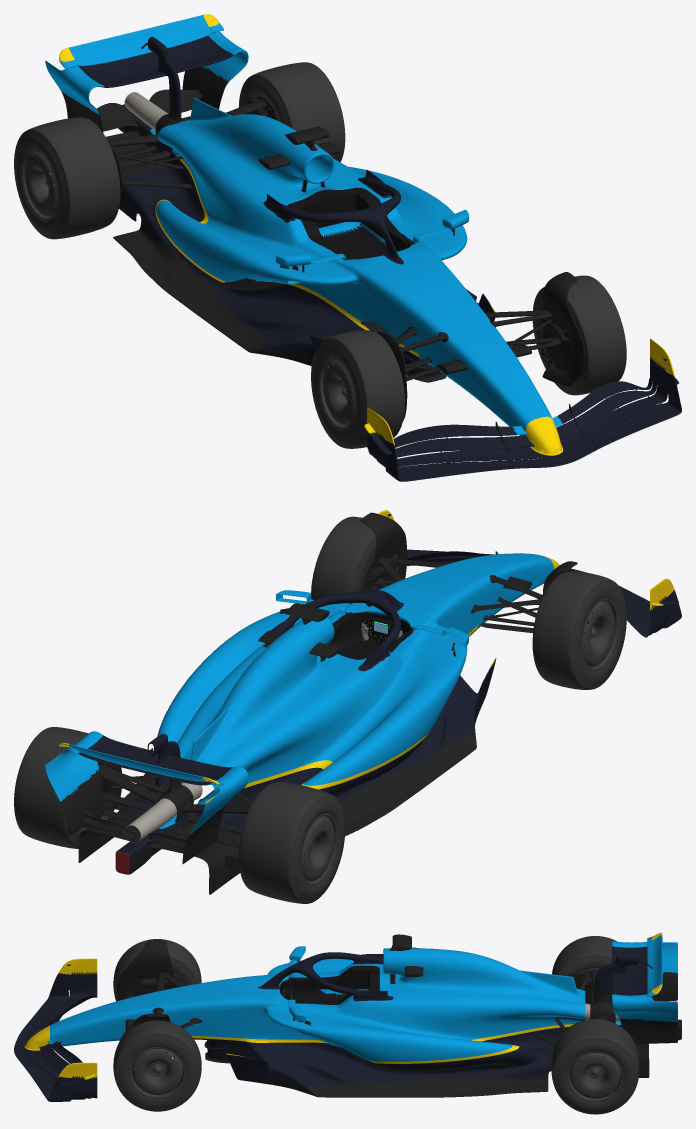
3 renders of one model, top to bottom at view 1: azimuth 30°, elevation 25°; view 2: azimuth 150°, elevation 25°; view 3: azimuth 270°, elevation 25°, orthographic. The views are drawn at different scales.
Visible parts, largest first — view 1: BODY, WHEEL_RR_TYRE, WHEEL_RF_TYRE, WHEEL_LF_TYRE, WHEEL_LR_TYRE, WING_REAR_DRS, SUSP_LF, WHEEL_RF_RIM, WHEEL_RR_RIM, SUSP_RF; view 2: BODY, WHEEL_RR_TYRE, WHEEL_RF_TYRE, WHEEL_LR_TYRE, WHEEL_LF_TYRE, WHEEL_RF_RIM, WHEEL_RR_RIM, SUSP_LF, WING_REAR_DRS; view 3: BODY, WHEEL_LR_TYRE, WHEEL_LF_TYRE, WHEEL_LF_RIM, WHEEL_LR_RIM, SUSP_RF, WHEEL_RR_TYRE, WHEEL_RF_TYRE, WING_REAR_DRS, SUSP_LF.
Boxes of the visible parts, x1=… form: BODY: x1=45, y1=14, x2=681, y2=481; WHEEL_RR_TYRE: x1=14, y1=117, x2=120, y2=239; WHEEL_RF_TYRE: x1=311, y1=330, x2=405, y2=448; WHEEL_LF_TYRE: x1=532, y1=275, x2=626, y2=395; WHEEL_LR_TYRE: x1=238, y1=62, x2=345, y2=162; WING_REAR_DRS: x1=69, y1=15, x2=211, y2=66; SUSP_LF: x1=539, y1=272, x2=584, y2=386; WHEEL_RF_RIM: x1=319, y1=357, x2=356, y2=429; WHEEL_RR_RIM: x1=21, y1=148, x2=58, y2=220; SUSP_RF: x1=360, y1=321, x2=407, y2=420; BODY: x1=45, y1=510, x2=681, y2=894; WHEEL_RR_TYRE: x1=238, y1=782, x2=345, y2=903; WHEEL_RF_TYRE: x1=532, y1=571, x2=626, y2=689; WHEEL_LR_TYRE: x1=14, y1=727, x2=114, y2=848; WHEEL_LF_TYRE: x1=311, y1=516, x2=397, y2=603; WHEEL_RF_RIM: x1=581, y1=598, x2=618, y2=671; WHEEL_RR_RIM: x1=300, y1=813, x2=337, y2=885; SUSP_LF: x1=360, y1=512, x2=407, y2=582; WING_REAR_DRS: x1=68, y1=744, x2=208, y2=781; BODY: x1=14, y1=932, x2=681, y2=1101; WHEEL_LR_TYRE: x1=551, y1=1019, x2=639, y2=1114; WHEEL_LF_TYRE: x1=113, y1=1020, x2=201, y2=1111; WHEEL_LF_RIM: x1=129, y1=1047, x2=185, y2=1098; WHEEL_LR_RIM: x1=567, y1=1051, x2=623, y2=1102; SUSP_RF: x1=117, y1=939, x2=177, y2=1000; WHEEL_RR_TYRE: x1=552, y1=936, x2=616, y2=976; WHEEL_RF_TYRE: x1=113, y1=939, x2=201, y2=1001; WING_REAR_DRS: x1=647, y1=934, x2=662, y2=991; SUSP_LF: x1=119, y1=1013, x2=170, y2=1041.
Size of the model in its own units: 2.1 by 1.12 by 5.44.
16 materials, 2 textured.
